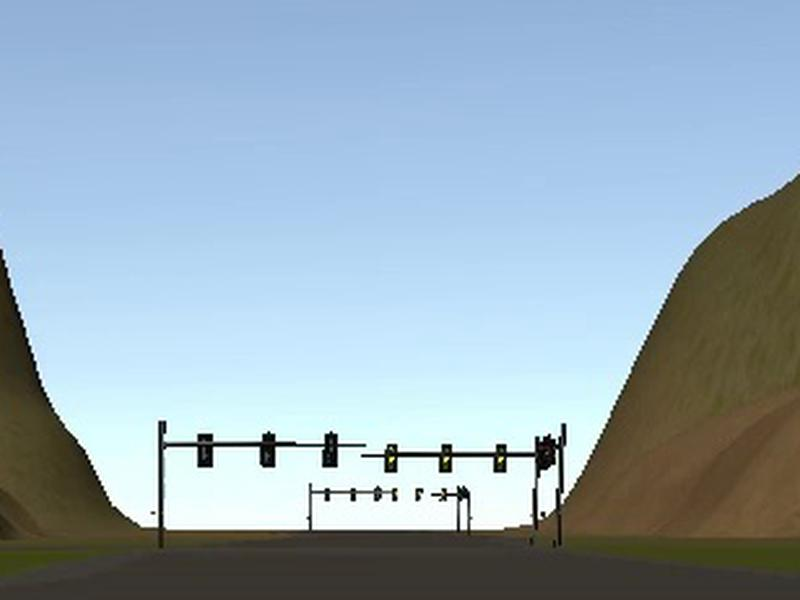Yellow: (493, 443, 507, 473), (439, 444, 453, 473), (385, 443, 398, 473)
